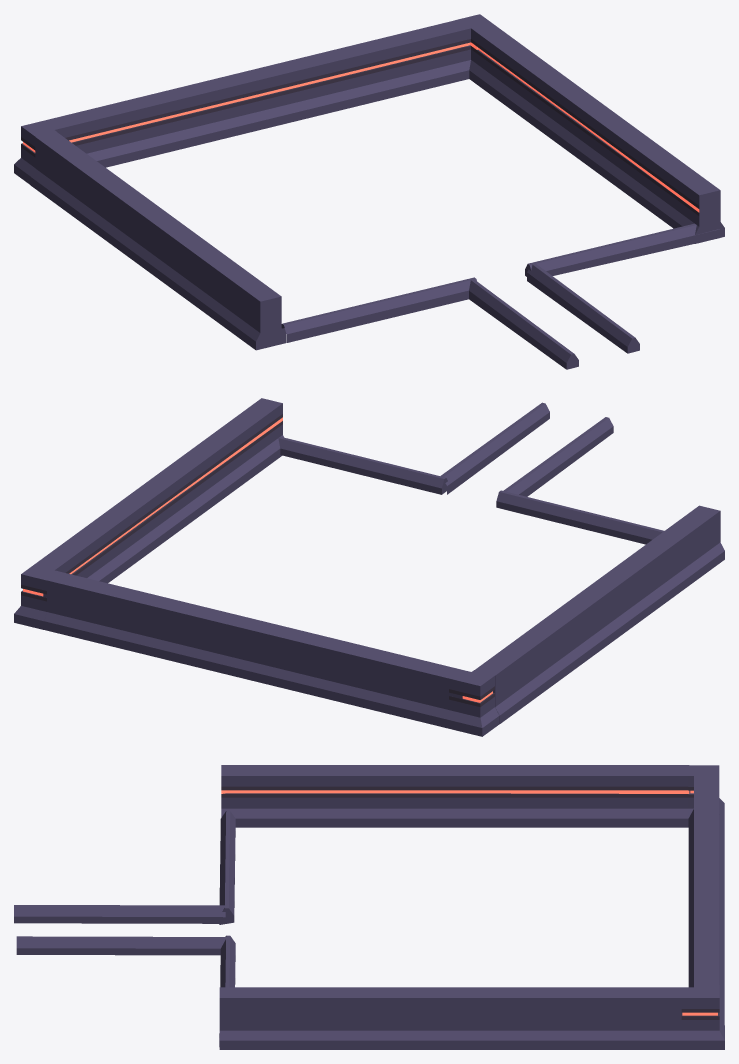
Rendered from Room2.fbx.
3 views of the same model, one above another, from view 1: azimuth 30°, elevation 25°; view 2: azimuth 150°, elevation 25°; view 3: azimuth 270°, elevation 25° (orthographic). The views are drawn at different scales.
Parts seen in each view (by area): view 1: Wall L.104, Wall L.101, Wall L.105, Wall L.106, Wall L.107, Wall L.109, Wall L.108, Wall L.102, Wall L.103; view 2: Wall L.104, Wall L.101, Wall L.105, Wall L.107, Wall L.106, Wall L.102, Wall L.109, Wall L.108, Wall L.103; view 3: Wall L.101, Wall L.105, Wall L.104, Wall L.108, Wall L.109, Wall L.103, Wall L.106, Wall L.102, Wall L.107.
Boxes of the visible parts, x1,y1,x2,y2 form: Wall L.104: (45, 20, 470, 167); Wall L.101: (30, 132, 286, 350); Wall L.105: (472, 27, 724, 243); Wall L.106: (281, 277, 476, 342); Wall L.107: (525, 223, 719, 276); Wall L.109: (527, 263, 639, 353); Wall L.108: (469, 279, 578, 369); Wall L.102: (14, 118, 64, 184); Wall L.103: (454, 14, 497, 80); Wall L.104: (43, 571, 473, 727); Wall L.101: (474, 505, 724, 724); Wall L.105: (39, 398, 283, 583); Wall L.107: (278, 436, 447, 494); Wall L.106: (496, 490, 663, 544); Wall L.102: (446, 669, 499, 736); Wall L.109: (440, 402, 549, 494); Wall L.108: (503, 417, 613, 496); Wall L.103: (14, 561, 60, 629); Wall L.101: (221, 765, 689, 827); Wall L.105: (219, 987, 682, 1049); Wall L.104: (688, 774, 724, 1024); Wall L.108: (14, 905, 225, 923); Wall L.109: (16, 936, 225, 955); Wall L.103: (681, 985, 724, 1049); Wall L.106: (219, 811, 235, 924); Wall L.102: (688, 765, 724, 827); Wall L.107: (219, 935, 235, 1046).
Bounding box in the file's own units: 8080 × 786 × 10222.
